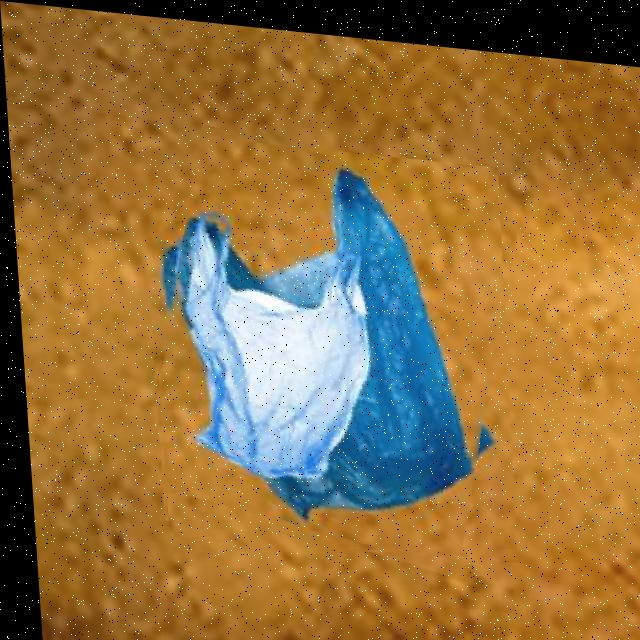plasticcover: (141, 127, 517, 562), (141, 211, 414, 538)
